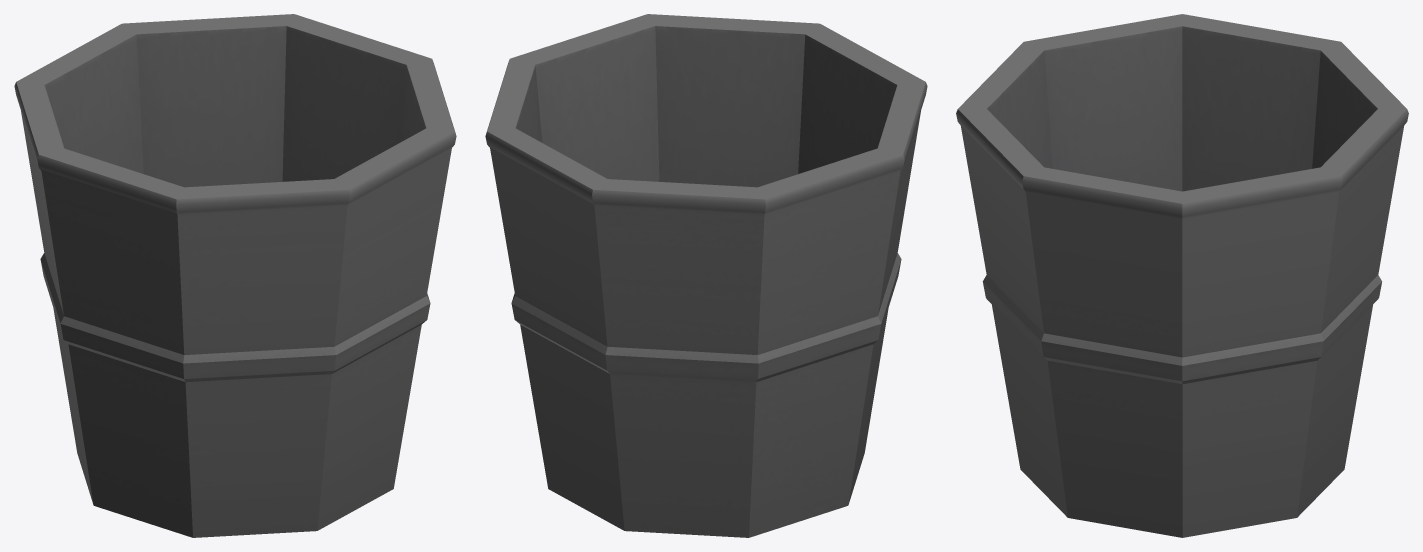
The model's file is cuboVacio.fbx.
The picture shows the model from 3 angles, left to right: view 1: azimuth 30°, elevation 25°; view 2: azimuth 150°, elevation 25°; view 3: azimuth 270°, elevation 25°; orthographic projection.
Visible parts, largest first — view 1: pCylinder3; view 2: pCylinder3; view 3: pCylinder3.
Part boxes in pixels (x1,y1,x2,y2): pCylinder3: (14,14,456,537); pCylinder3: (485,14,927,537); pCylinder3: (956,14,1408,537).
Size of the model in its own units: 2.02 by 1.77 by 2.02.
